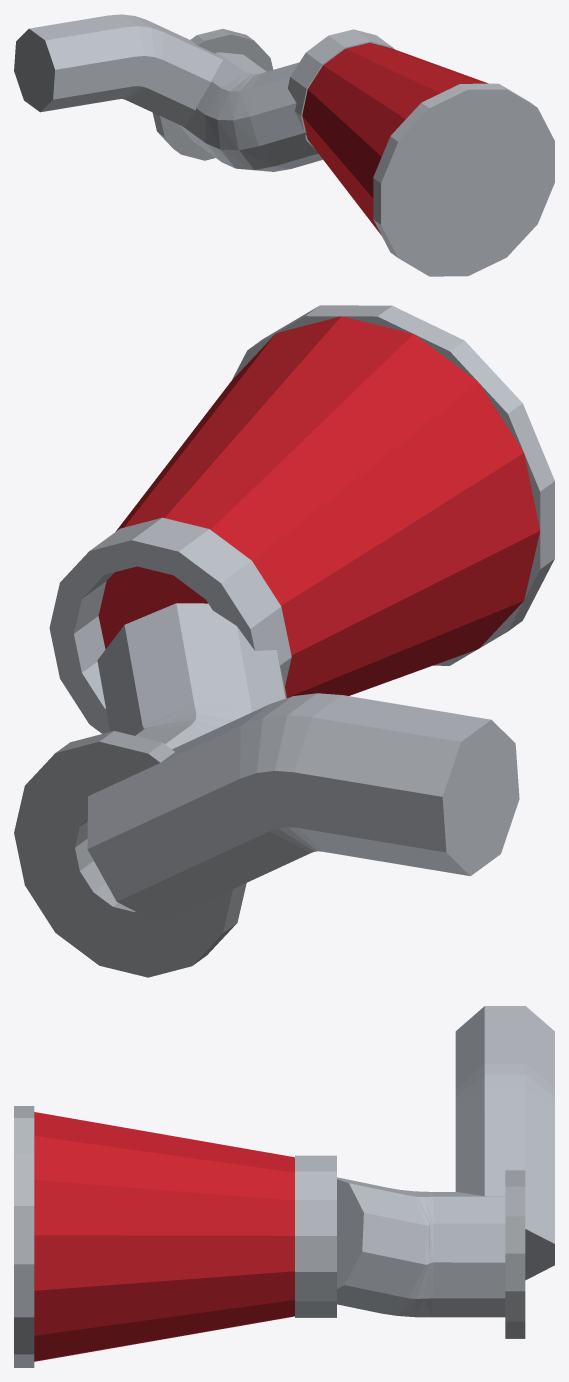
Rendered from vortex_r.glb.
The picture shows the model from 3 angles, top to bottom: view 1: azimuth 30°, elevation 25°; view 2: azimuth 150°, elevation 25°; view 3: azimuth 270°, elevation 25°; orthographic projection. The views are drawn at different scales.
Visible parts, largest first — view 1: model; view 2: model; view 3: model.
Part boxes in pixels (box(x1,y1,x2,y2)): model: box(14, 14, 554, 276); model: box(14, 305, 554, 977); model: box(14, 1006, 554, 1367).
Bounding box in the file's own units: 0.2882 × 0.1629 × 0.3216.
Materials: 2 (1 with a texture image).
